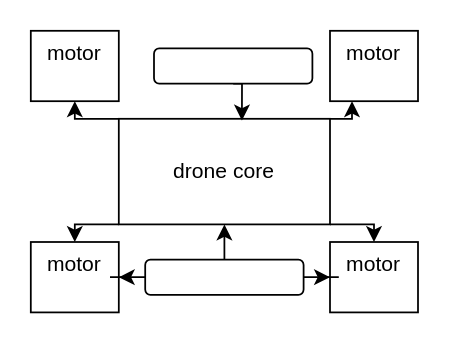
This 449x357 diagram has some shape labels left out. Here are the shapes that lost their labels. From the top down, the box of each, then its label:
(152, 47, 312, 84): gyroscope
(143, 258, 304, 295): battery
